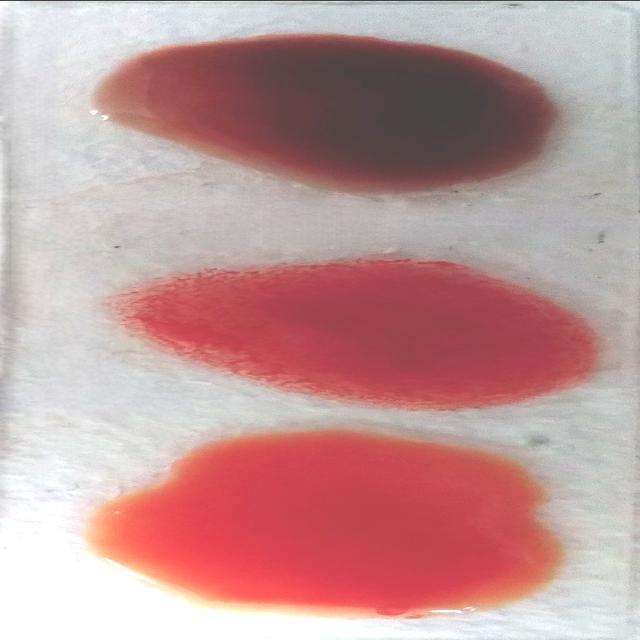D: (83, 257, 609, 399)
